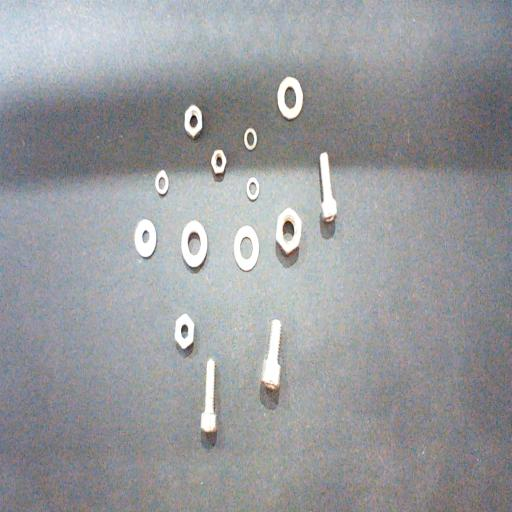nut: (276, 207, 302, 254), (174, 314, 194, 350), (184, 104, 203, 138), (211, 149, 226, 174)
screw: (261, 320, 282, 390), (319, 152, 337, 222), (201, 359, 216, 433)
washer: (182, 220, 208, 267), (234, 225, 259, 271), (277, 76, 303, 119), (134, 218, 156, 257), (155, 170, 169, 195), (246, 177, 260, 200), (244, 127, 257, 150)
